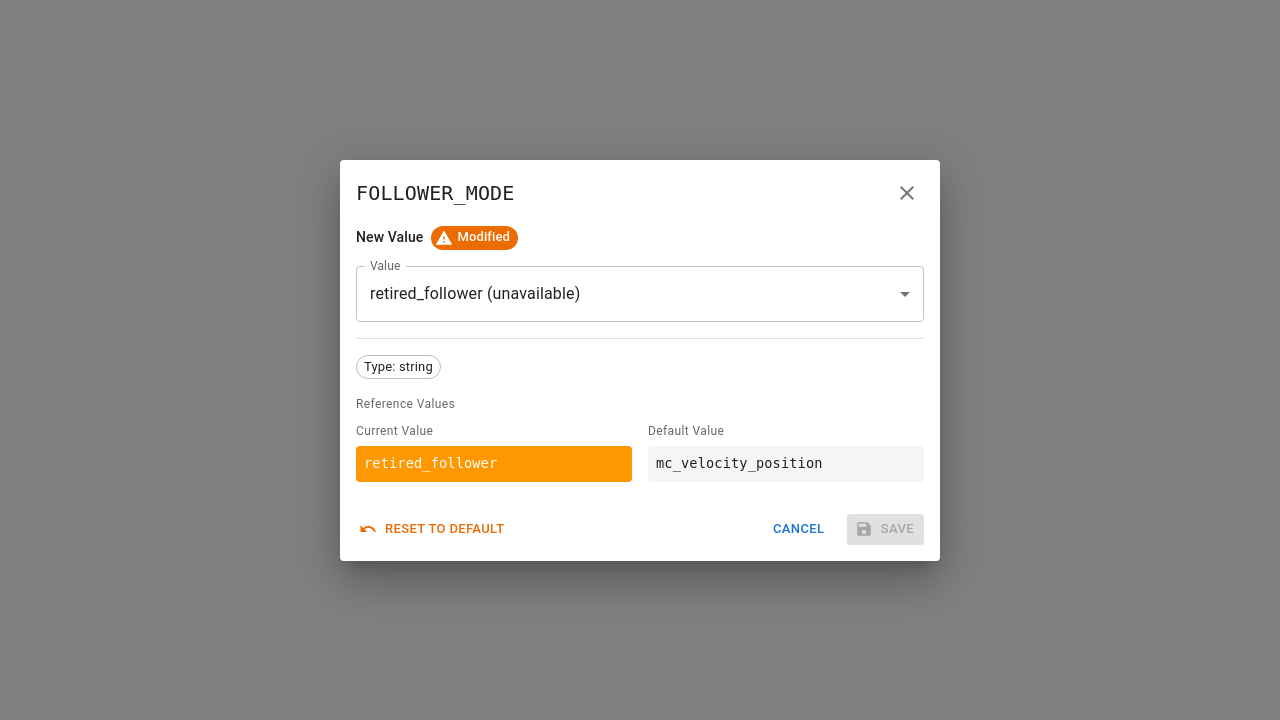
Test case: closed catalogs identify a retired saved value without accepting it as custom
Press the mouse on the dropdown at (475, 294), box [370,284,580,303]
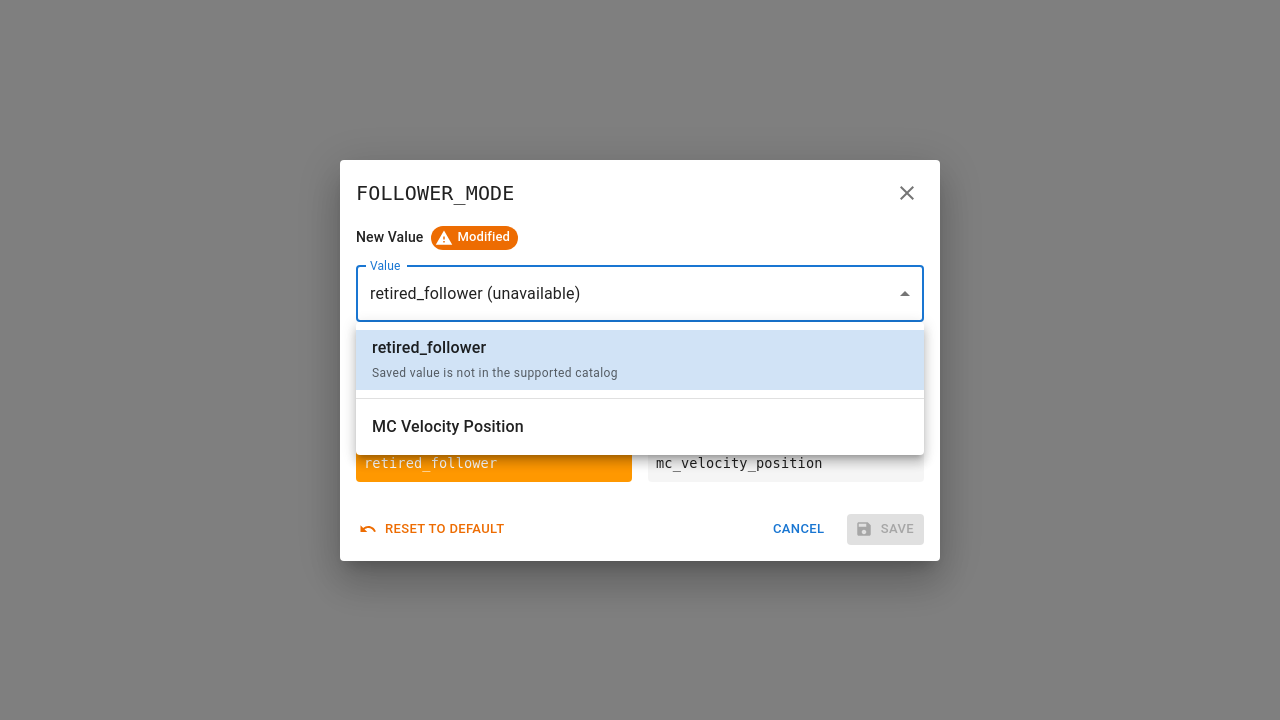
Now the option "retired_follower Saved value is not in the supported catalog" is shown, box [356,330,924,390]
